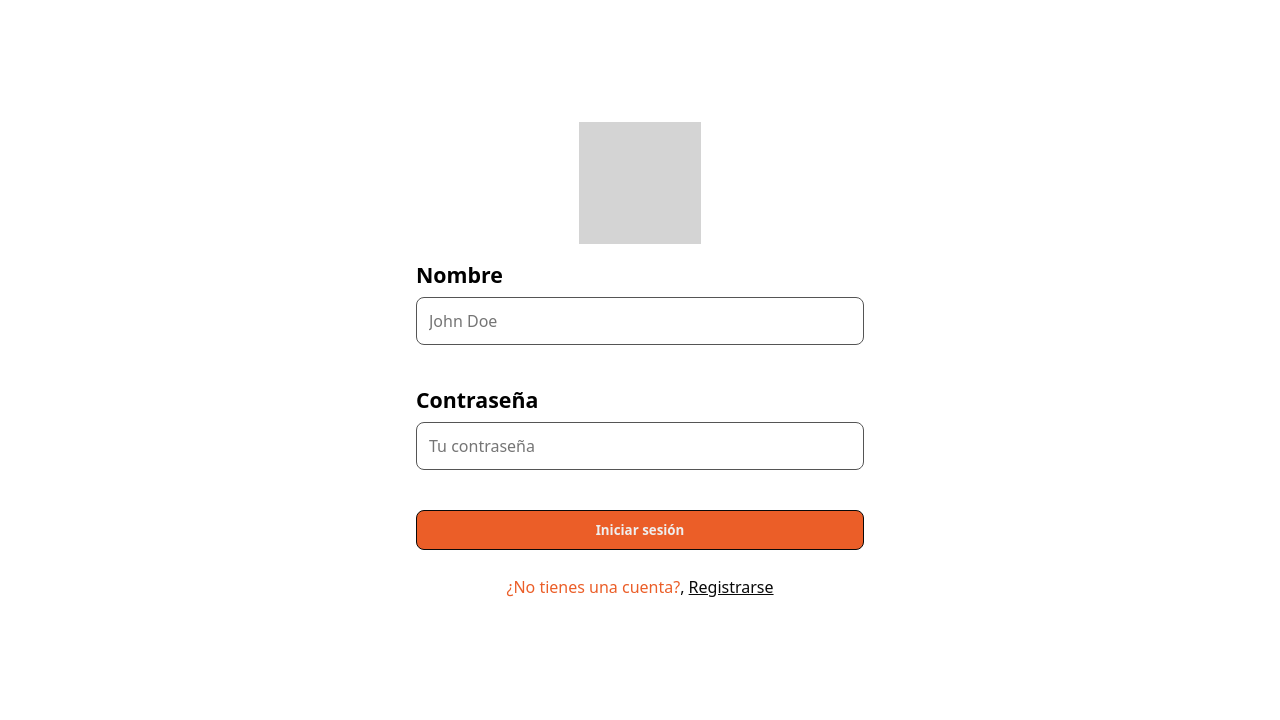
Test case: muestra error al introducir un usuario incorrecto
Type "wrongUser" into the field with placeholder "John Doe".
click(640, 321); type("wrongUser")  # box [416, 297, 864, 345]
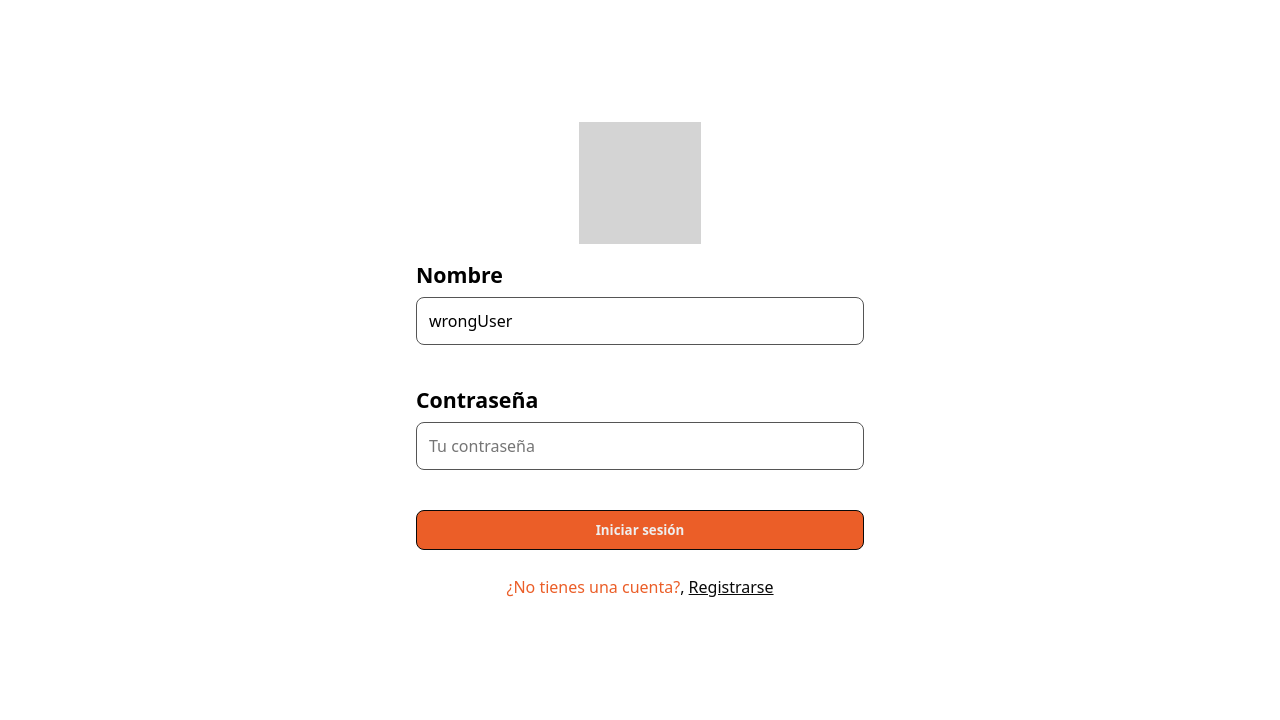
Type "correctPassword" into the password field with placeholder "Tu contraseña".
click(640, 446); type("correctPassword")  # box [416, 422, 864, 470]
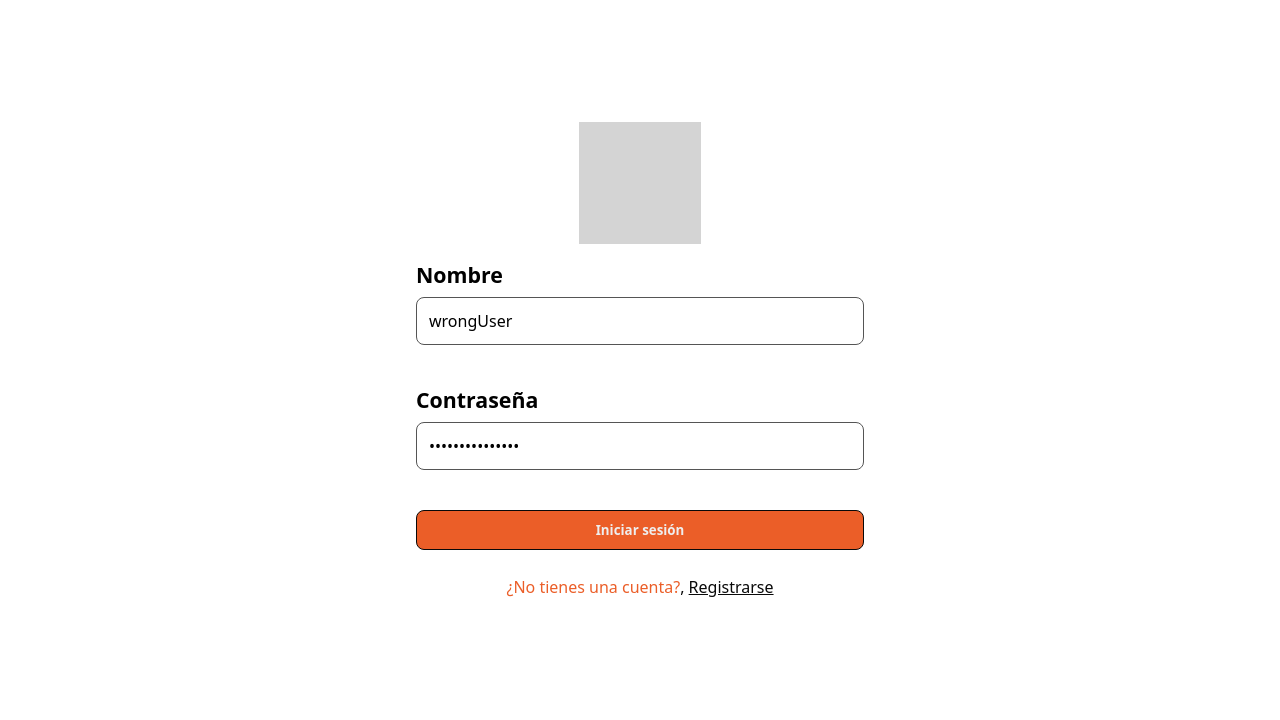
Click the button "Iniciar sesión".
click(640, 530)  # box [416, 510, 864, 550]
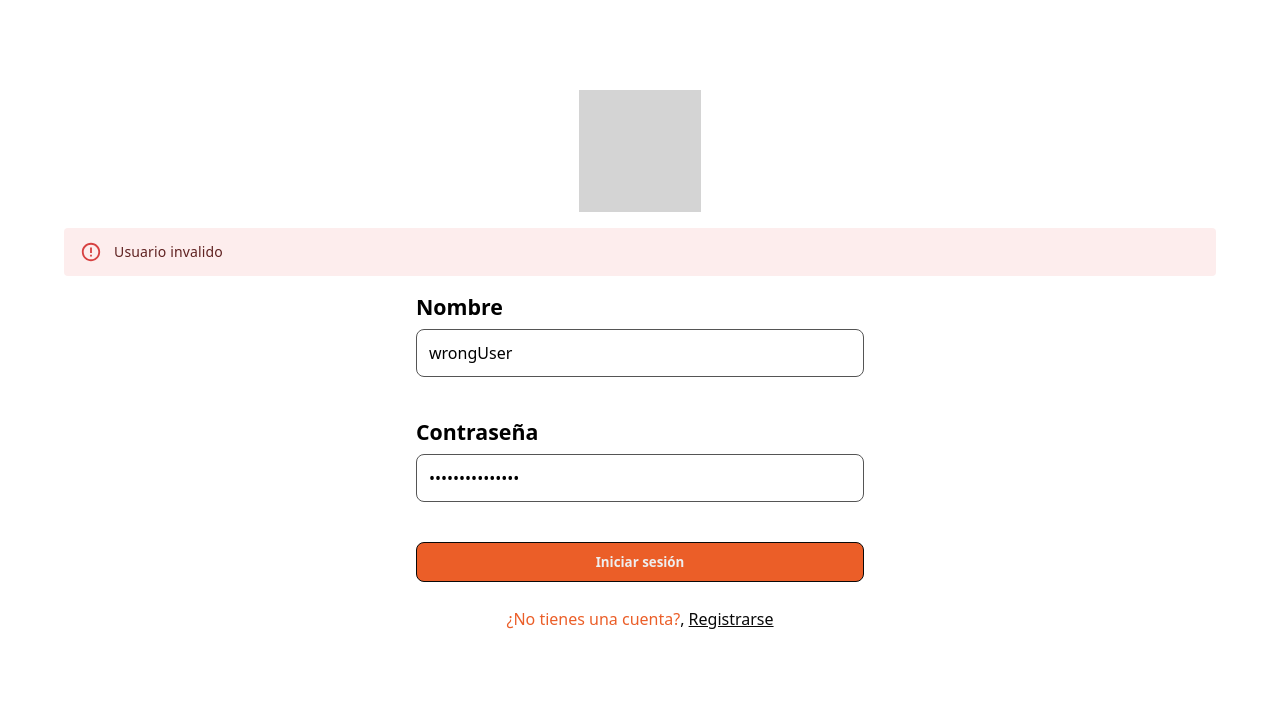
expect the text "Usuario invalido" is shown: met, box [114, 242, 223, 261]
